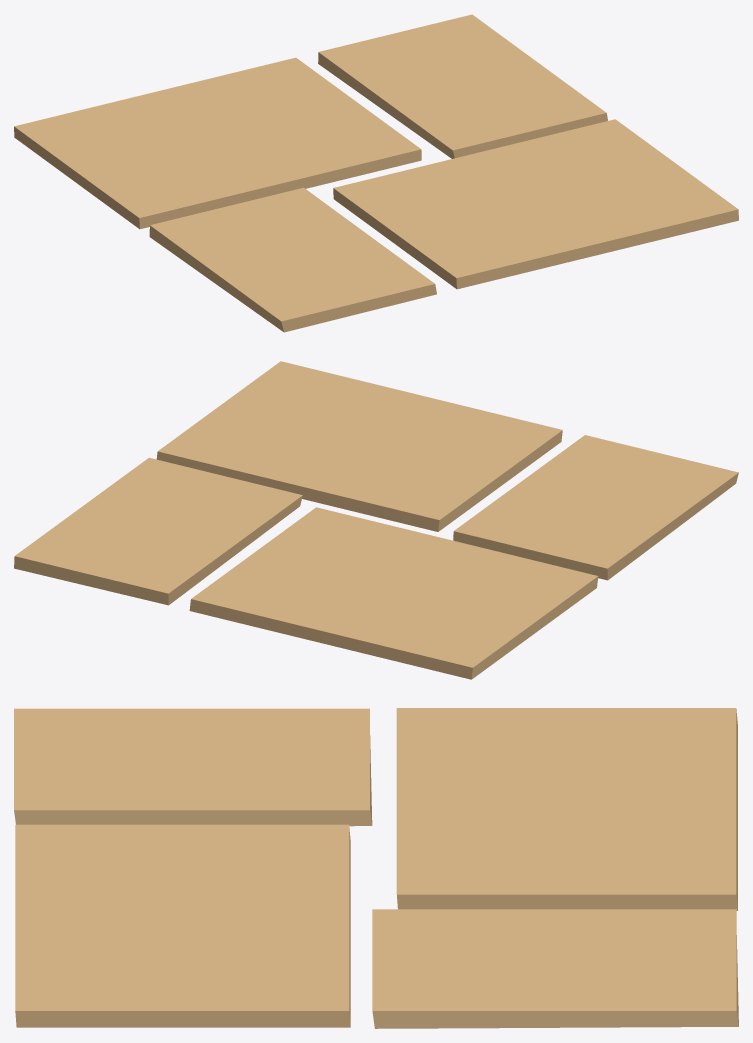
The model's file is dalle6.fbx.
3 views of the same model, one above another, from view 1: azimuth 30°, elevation 25°; view 2: azimuth 150°, elevation 25°; view 3: azimuth 270°, elevation 25° (orthographic). The views are drawn at different scales.
Visible parts, largest first — view 1: Cube.003, Cube.001, Cube.004, Cube.002; view 2: Cube.003, Cube.001, Cube.004, Cube.002; view 3: Cube.003, Cube.001, Cube.004, Cube.002.
Part boxes in pixels (<box>): Cube.003: <box>14,57,421,229</box>; Cube.001: <box>333,119,738,289</box>; Cube.004: <box>318,14,607,158</box>; Cube.002: <box>149,187,436,332</box>; Cube.003: <box>189,507,598,679</box>; Cube.001: <box>156,361,562,531</box>; Cube.004: <box>14,457,302,605</box>; Cube.002: <box>453,435,738,580</box>; Cube.003: <box>396,708,737,910</box>; Cube.001: <box>15,824,350,1027</box>; Cube.004: <box>372,909,738,1028</box>; Cube.002: <box>14,708,372,826</box>.
Bounding box in the file's own units: 193 × 4.7 × 194.
